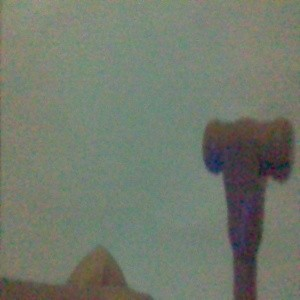palu: (200, 114, 295, 300)
